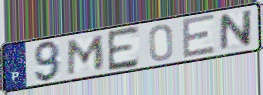0: (148, 23, 175, 62)
9: (33, 40, 63, 83)
E: (180, 12, 218, 61), (105, 24, 141, 74)
M: (65, 33, 106, 77)
N: (218, 7, 255, 53)
